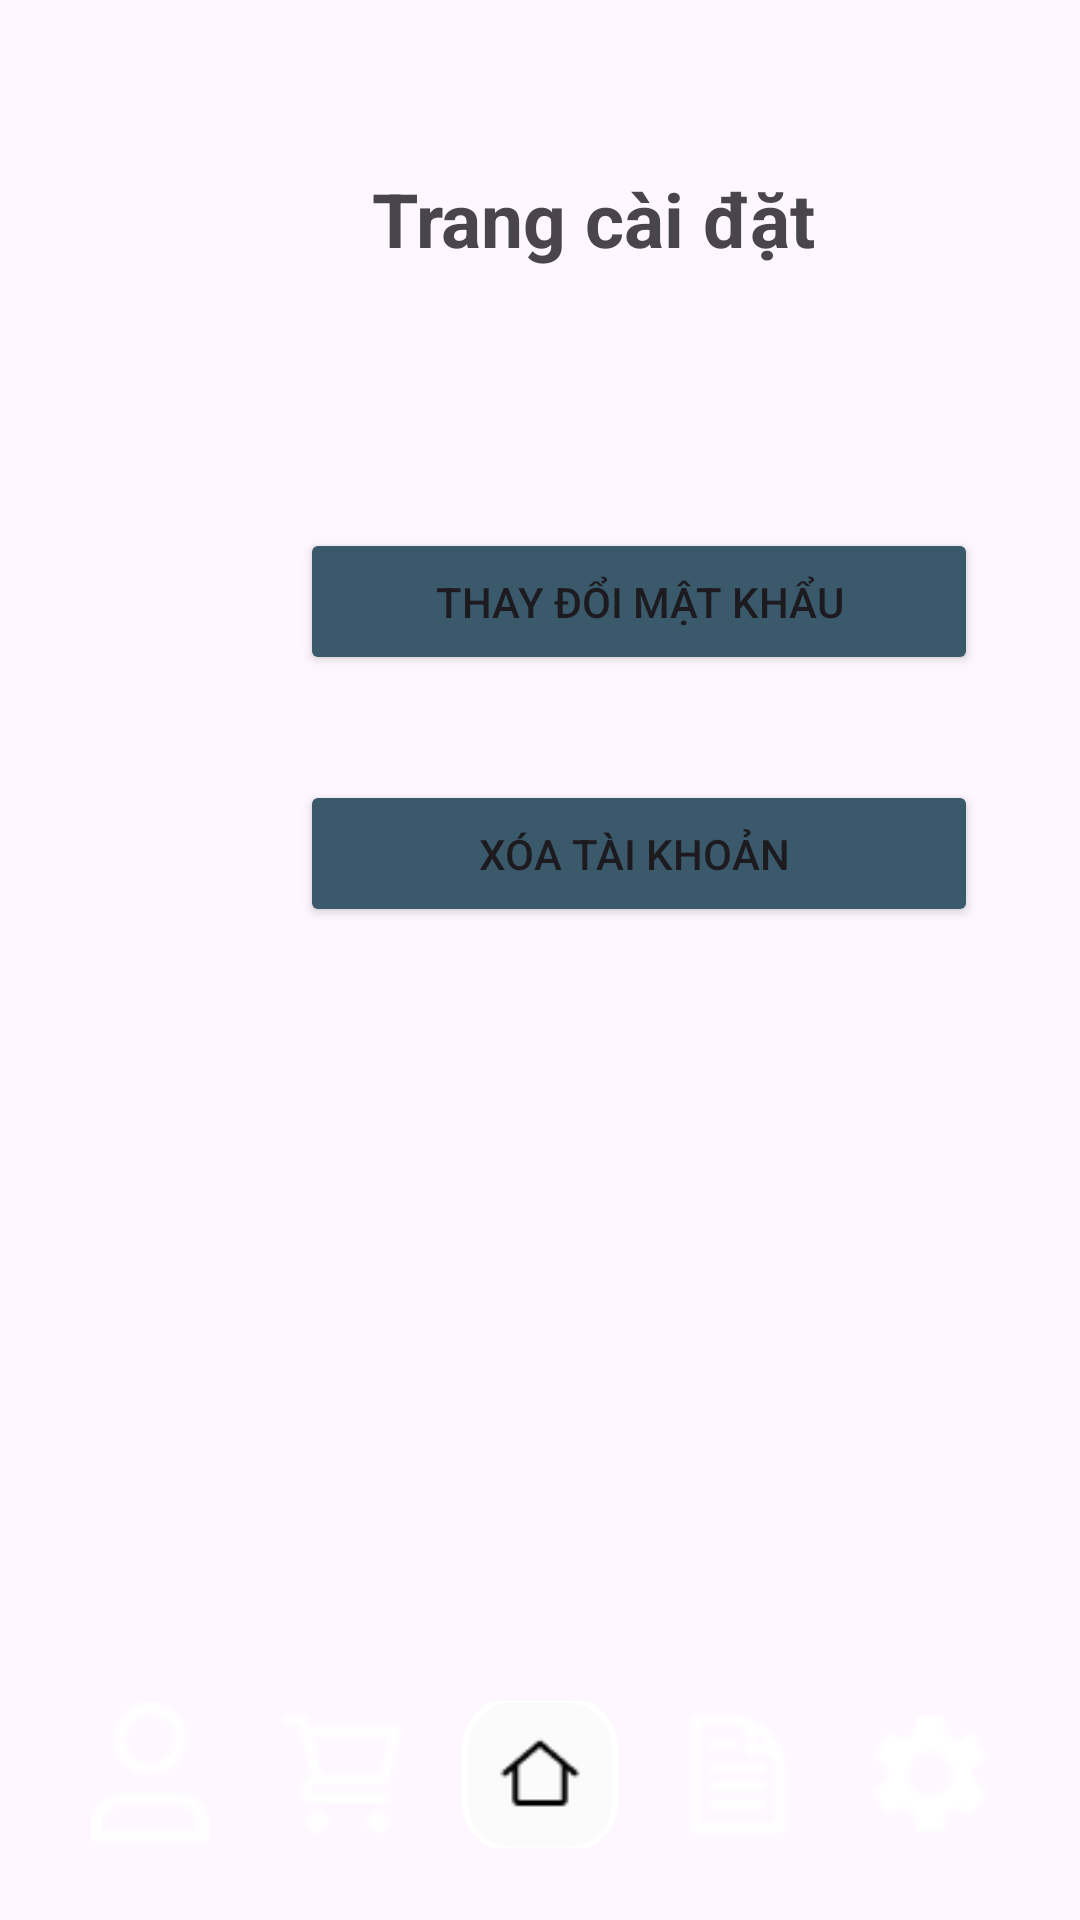

Icons on this 1080x1920 Android screen, each with the point to tap as [x,y]:
trang chu: [540,1773]
